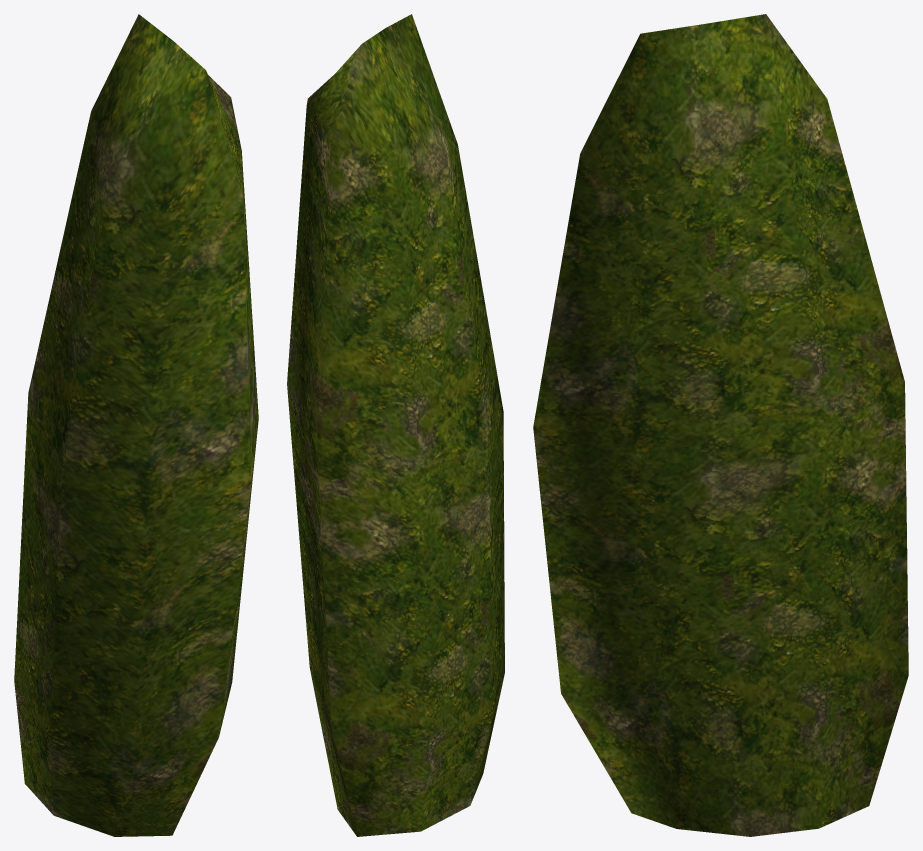
The model's file is OVERHILL_A_01_OBJECT55.fbx.
The picture shows the model from 3 angles, left to right: view 1: azimuth 30°, elevation 25°; view 2: azimuth 150°, elevation 25°; view 3: azimuth 270°, elevation 25°; orthographic projection. The views are drawn at different scales.
Visible parts, largest first — view 1: OVERHILL_A_01_OBJECT55; view 2: OVERHILL_A_01_OBJECT55; view 3: OVERHILL_A_01_OBJECT55.
Boxes of the visible parts, left/top/right/bottom form: OVERHILL_A_01_OBJECT55: left=14, top=14, right=258, bottom=836; OVERHILL_A_01_OBJECT55: left=287, top=14, right=504, bottom=836; OVERHILL_A_01_OBJECT55: left=533, top=14, right=908, bottom=836.
Size of the model in its own units: 24907 by 95062 by 39719.
1 material, 1 textured.
